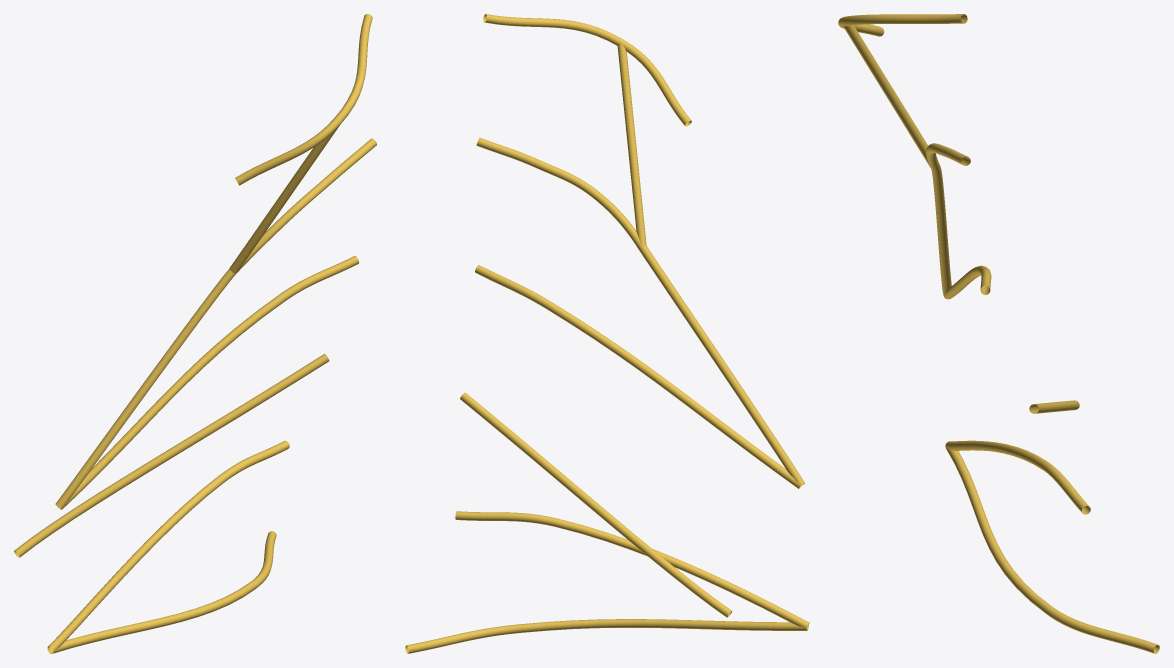
The model's file is Roots_brachial_plexus_right.glb.
3 renders of one model, left to right at view 1: azimuth 30°, elevation 25°; view 2: azimuth 150°, elevation 25°; view 3: azimuth 270°, elevation 25°, orthographic. The views are drawn at different scales.
Visible parts, largest first — view 1: Roots_of_brachial_plexus.r_BezierCurve.465; view 2: Roots_of_brachial_plexus.r_BezierCurve.465; view 3: Roots_of_brachial_plexus.r_BezierCurve.465.
Boxes of the visible parts, left/top/right/bottom form: Roots_of_brachial_plexus.r_BezierCurve.465: left=14, top=14, right=376, bottom=653; Roots_of_brachial_plexus.r_BezierCurve.465: left=405, top=14, right=809, bottom=653; Roots_of_brachial_plexus.r_BezierCurve.465: left=838, top=14, right=1159, bottom=653.
Bounding box in the file's own units: 0.0429 × 0.0724 × 0.0328.
